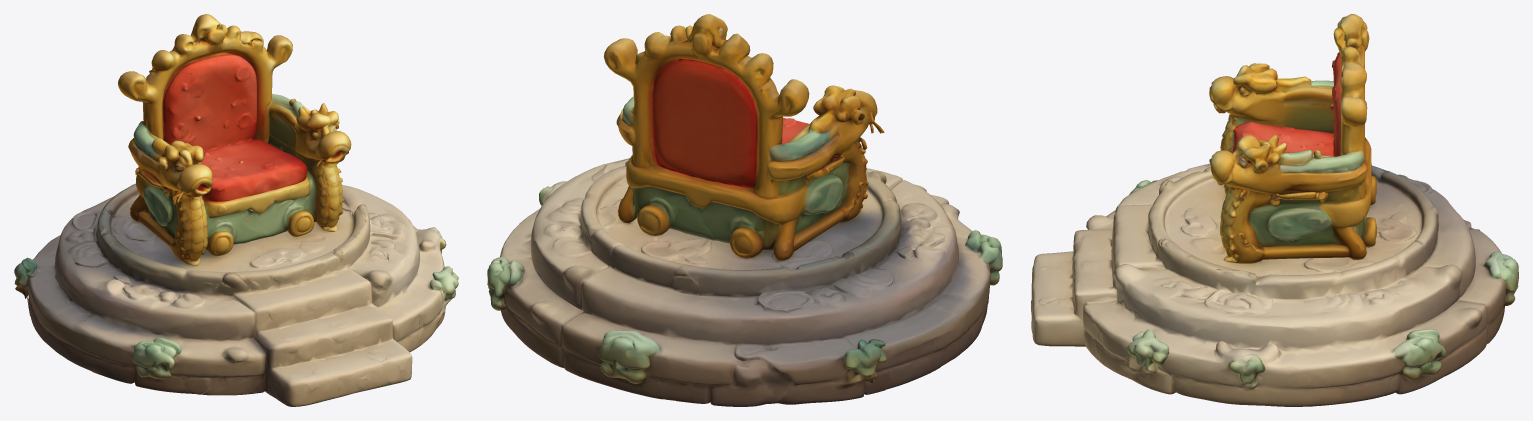
The model's file is emperor-desktop.glb.
3 views of the same model, side by side, from view 1: azimuth 30°, elevation 25°; view 2: azimuth 150°, elevation 25°; view 3: azimuth 270°, elevation 25° (orthographic). The views are drawn at different scales.
Parts seen in each view (by area): view 1: tripo_node_a0db8764-5008-46a6-81b3-e59025fe3bfe; view 2: tripo_node_a0db8764-5008-46a6-81b3-e59025fe3bfe; view 3: tripo_node_a0db8764-5008-46a6-81b3-e59025fe3bfe.
Boxes of the visible parts, x1,y1,x2,y2 form: tripo_node_a0db8764-5008-46a6-81b3-e59025fe3bfe: (14, 14, 458, 406); tripo_node_a0db8764-5008-46a6-81b3-e59025fe3bfe: (487, 14, 1002, 406); tripo_node_a0db8764-5008-46a6-81b3-e59025fe3bfe: (1031, 14, 1518, 406).
Size of the model in its own units: 0.9421 by 0.6665 by 0.9801.
1 material, 1 textured.
